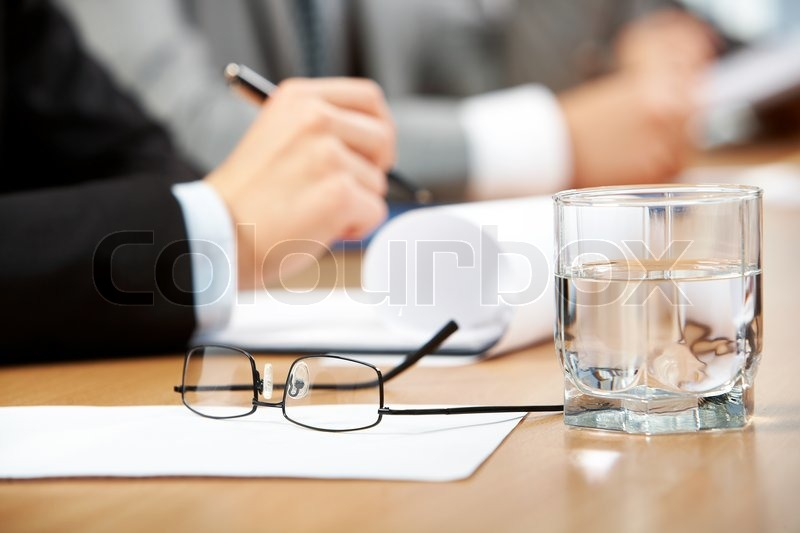glass of water: (552, 186, 761, 427)
